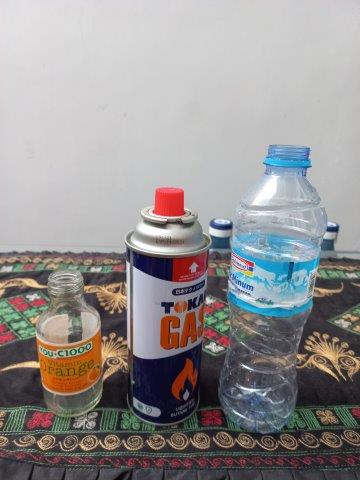botolkaca: (35, 271, 105, 414)
botolplastik: (219, 146, 328, 429)
kaleng: (127, 187, 212, 423)
